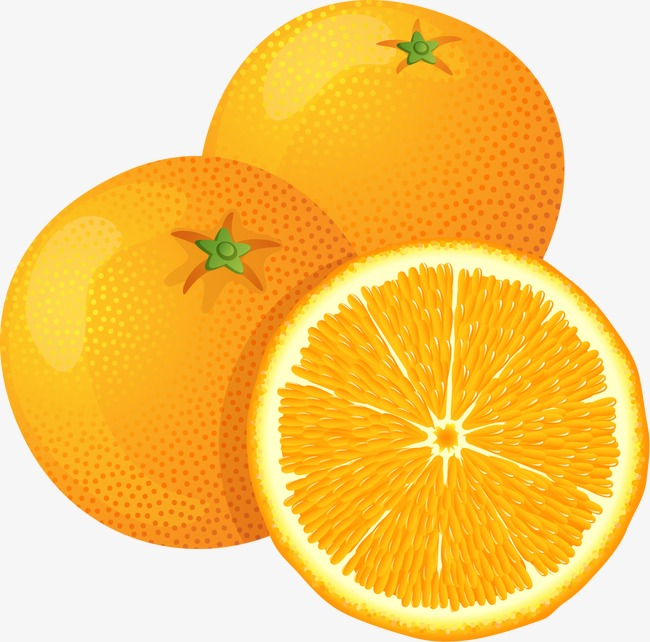orange: (251, 232, 650, 640), (4, 153, 397, 566), (155, 4, 621, 273)
